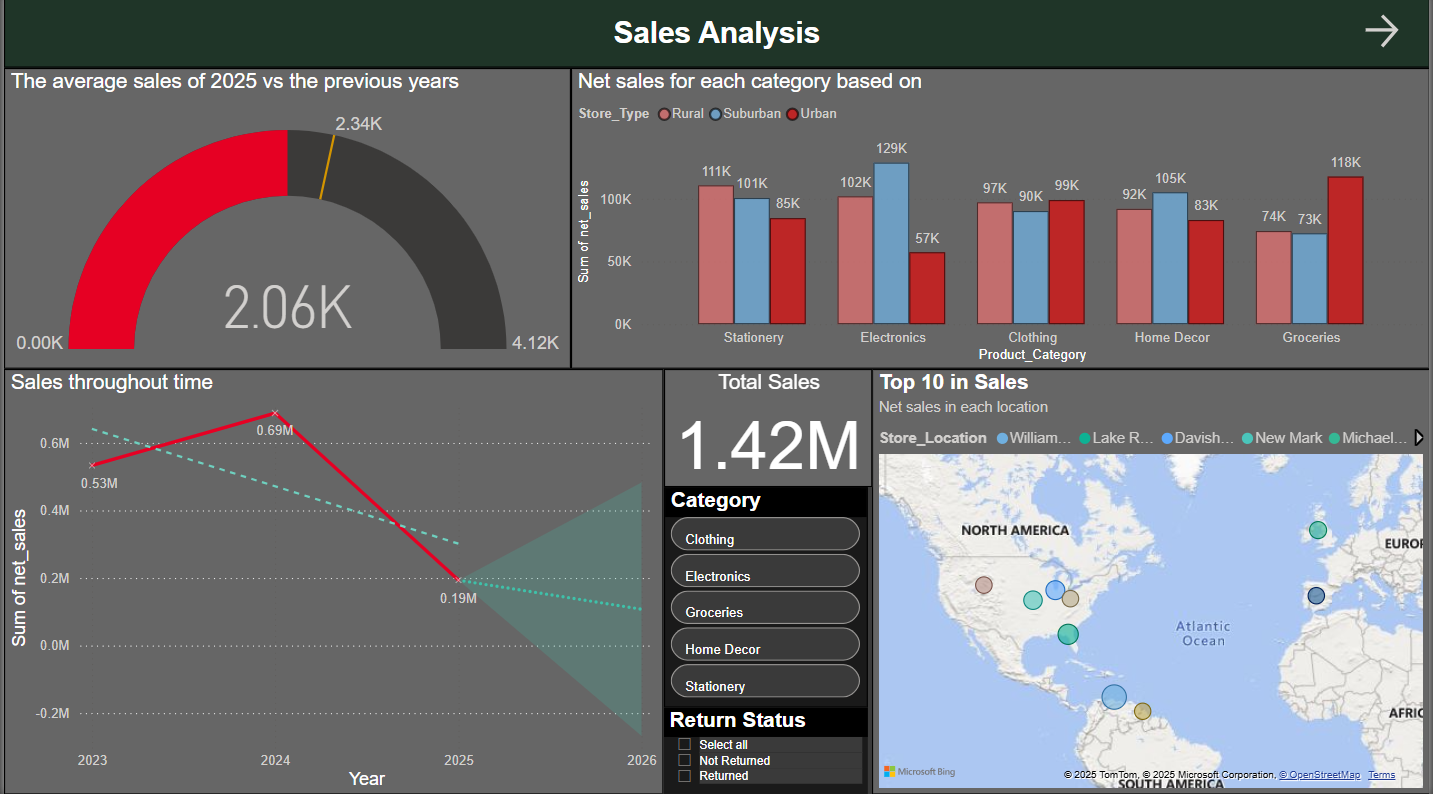

The page's visual inventory and layout, read from the dashboard file:
{"tool":"powerbi","page":{"name":"Page 1","canvas":[1280,720],"ordinal":0},"visuals":[{"type":"lineChart","title":"Sales throughout time","fields":{"Category":["preprocessed_data_2.Purchase_Date.Variation.Date Hierarchy.Year","preprocessed_data_2.Purchase_Date.Variation.Date Hierarchy.Quarter","preprocessed_data_2.Purchase_Date.Variation.Date Hierarchy.Month","preprocessed_data_2.Purchase_Date.Variation.Date Hierarchy.Day"],"Y":["Sum(preprocessed_data_2.net_sales)"]},"box":[0,337.5,592.3,382.2],"z":0},{"type":"clusteredColumnChart","title":"Net sales for each category based on ","fields":{"Y":["Sum(preprocessed_data_2.net_sales)"],"Category":["preprocessed_data_2.Product_Category"],"Series":["preprocessed_data_2.Store_Type"]},"box":[509,67,771,270],"z":1000},{"type":"gauge","title":"The average sales of 2025 vs the previous years","fields":{"Y":["preprocessed_data_2.Sales_mean_2025"],"TargetValue":["preprocessed_data_2.Sales_mean_NOT2025"]},"box":[0,67,509,270],"z":2000},{"type":"advancedSlicerVisual","title":"Category","fields":{"Values":["preprocessed_data_2.Product_Category"]},"box":[592.3,443.5,182.9,198.4],"z":3000},{"type":"map","title":"Top 10 in Sales","fields":{"Size":["Sum(preprocessed_data_2.net_sales)"],"Series":["preprocessed_data_2.Store_Location"],"Category":["preprocessed_data_2.Store_Location"]},"box":[779.1,337.5,500.9,382.2],"z":4000},{"type":"slicer","title":"Return Status","fields":{"Values":["preprocessed_data_2.Return_Status"]},"box":[592.3,641.9,182.9,77.8],"z":5000},{"type":"card","title":"Total Sales","fields":{"Values":["Sum(preprocessed_data_2.net_sales)"]},"box":[592.3,337.5,186.7,106],"z":6000},{"type":"textbox","box":[0,0,1280,67],"z":7000},{"type":"actionButton","box":[1216.5,14.4,63.7,39.5],"z":8000}]}

Visuals, with their boxes in screenshot pixels (x1, y1, x2, y2), scaled from the page's 1280x720 canvas onto the 1433x794 screenshot:
"Sales throughout time" lineChart: 0,372,663,793
"Net sales for each category based on " clusteredColumnChart: 570,74,1432,372
"The average sales of 2025 vs the previous years" gauge: 0,74,570,372
"Category" advancedSlicerVisual: 663,489,868,708
"Top 10 in Sales" map: 872,372,1432,793
"Return Status" slicer: 663,708,868,793
"Total Sales" card: 663,372,872,489
textbox: 0,0,1432,74
actionButton: 1362,16,1432,59
